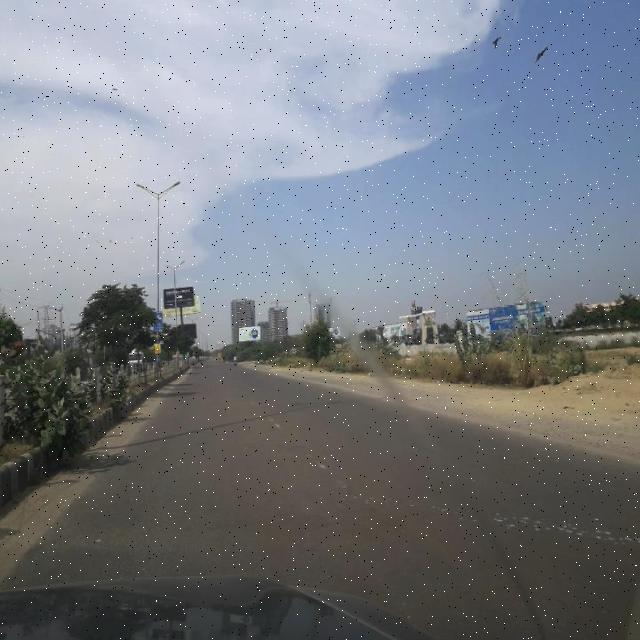D44: (265, 412, 346, 490)
